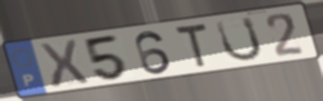2: (265, 12, 307, 59)
5: (82, 32, 130, 83)
6: (132, 28, 173, 76)
T: (173, 21, 210, 70)
U: (213, 15, 265, 63)
X: (36, 38, 92, 91)
